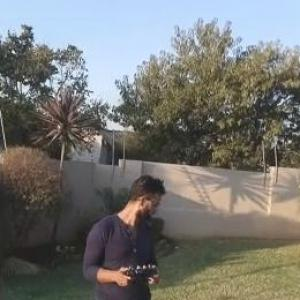follow: (79, 168, 168, 299)
